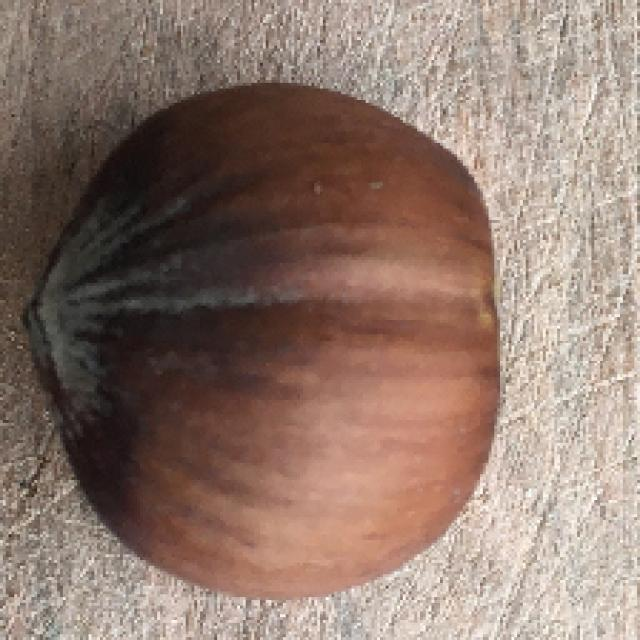damagedHazelnut: (27, 81, 506, 604)
